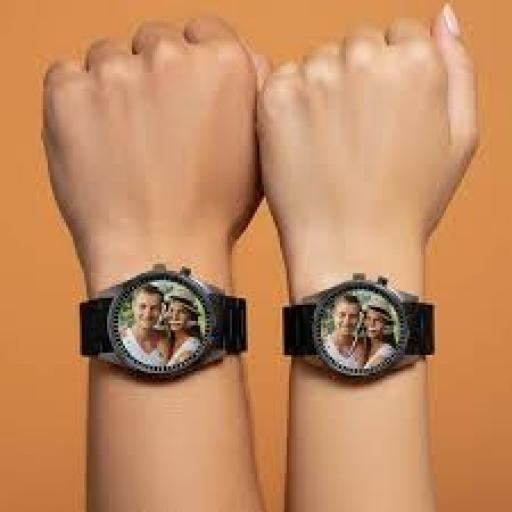KolSaati: (274, 269, 451, 385), (74, 265, 252, 379)
